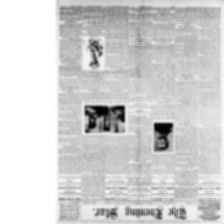news_paper: (49, 0, 223, 224)
